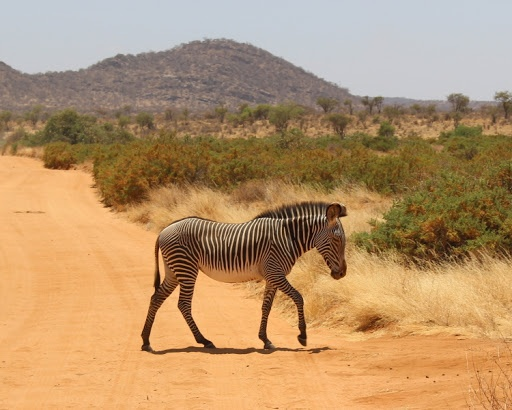zebra: (241, 275, 455, 410)
